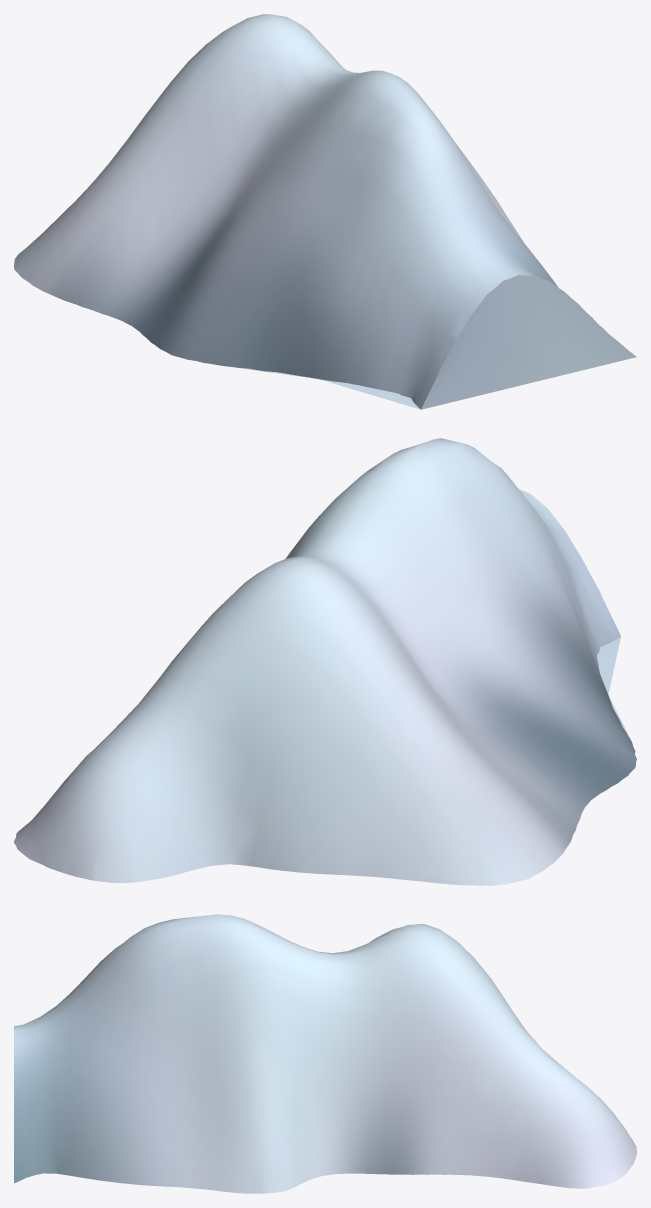
The model's file is gletscher.fbx.
The picture shows the model from 3 angles, top to bottom: view 1: azimuth 30°, elevation 25°; view 2: azimuth 150°, elevation 25°; view 3: azimuth 270°, elevation 25°; orthographic projection. The views are drawn at different scales.
Visible parts, largest first — view 1: Gletscher; view 2: Gletscher; view 3: Gletscher.
Part boxes in pixels (<box>): Gletscher: <box>14,14,636,409</box>; Gletscher: <box>14,438,636,885</box>; Gletscher: <box>14,914,636,1193</box>.
Size of the model in its own units: 0.2917 by 0.4325 by 0.159.
